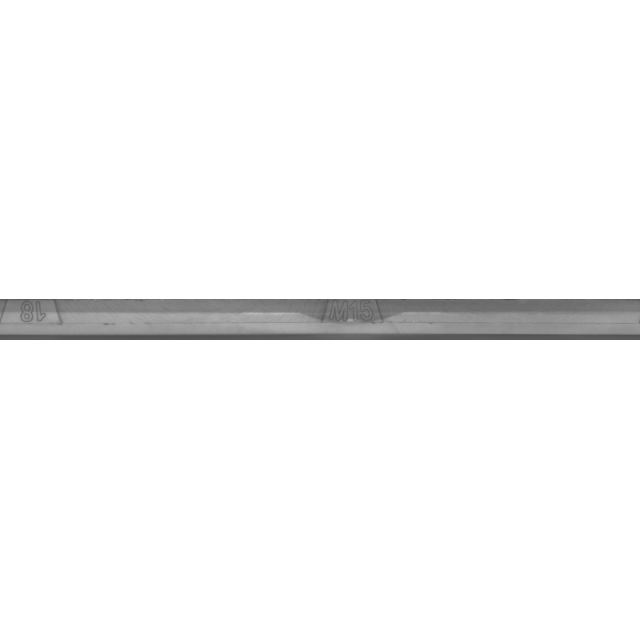mohao: (256, 270, 456, 370)
xuehao: (0, 270, 132, 370)
